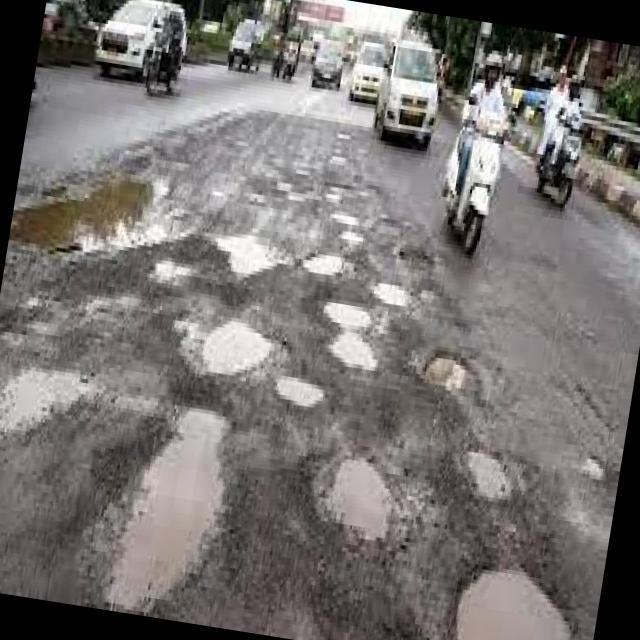Pothole: (100, 405, 237, 609), (12, 180, 163, 257), (322, 440, 403, 544), (452, 571, 568, 640), (0, 370, 88, 449), (420, 355, 483, 435), (202, 317, 279, 377), (209, 233, 282, 285), (325, 304, 378, 373), (0, 300, 76, 344), (467, 447, 510, 504), (398, 251, 435, 295), (272, 375, 323, 405), (137, 147, 192, 173), (151, 260, 193, 289), (308, 249, 348, 275), (376, 282, 411, 307), (339, 226, 364, 246), (586, 458, 605, 482), (338, 130, 359, 143), (323, 189, 342, 203), (325, 156, 345, 168), (279, 177, 290, 195)
